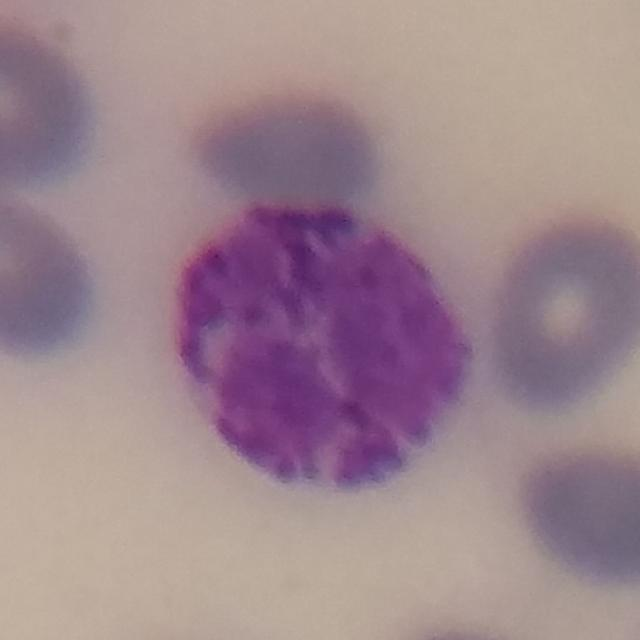Basophil: (158, 194, 481, 503)
RBC: (476, 207, 640, 417), (194, 82, 387, 212), (510, 438, 640, 594), (0, 187, 106, 366), (0, 13, 104, 195), (364, 616, 553, 640)
